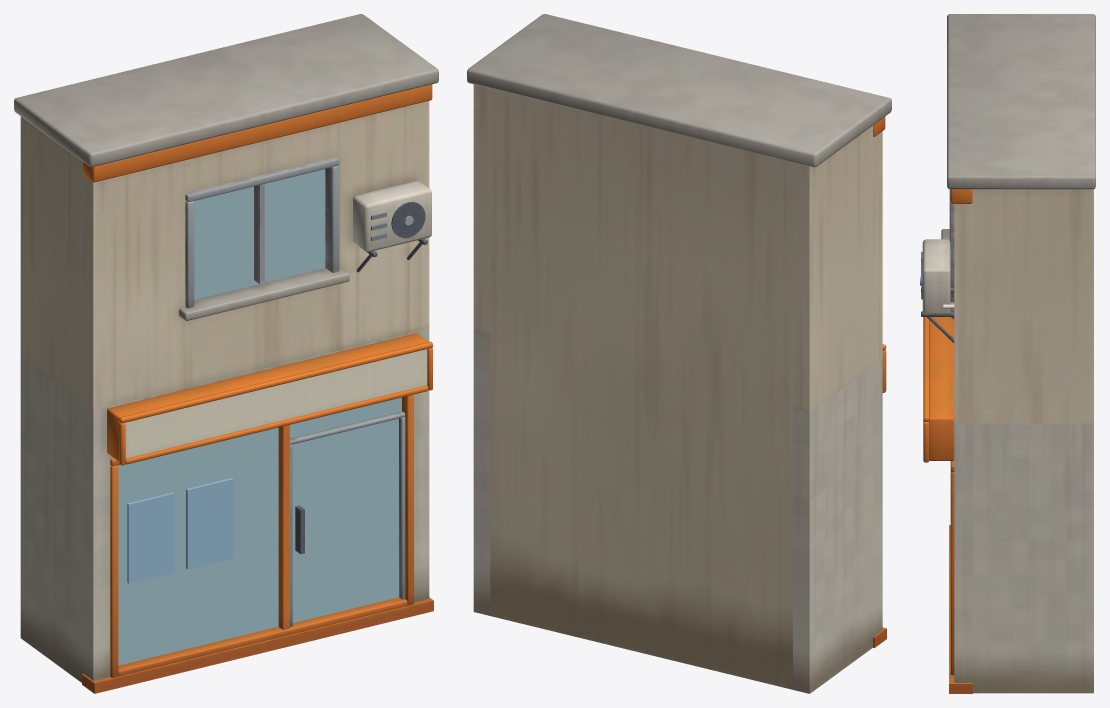
File: filler_phone_shop.glb
3 views of the same model, side by side, from view 1: azimuth 30°, elevation 25°; view 2: azimuth 150°, elevation 25°; view 3: azimuth 270°, elevation 25° (orthographic). The views are drawn at different scales.
Visible parts, largest first — view 1: filler_phone_shop; view 2: filler_phone_shop; view 3: filler_phone_shop.
Part boxes in pixels (bbox=[...]): filler_phone_shop: bbox=[14, 14, 438, 693]; filler_phone_shop: bbox=[467, 14, 891, 693]; filler_phone_shop: bbox=[920, 14, 1095, 693].
Bounding box in the file's own units: 4.16 × 6.16 × 1.89.
11 materials, 9 textured.
